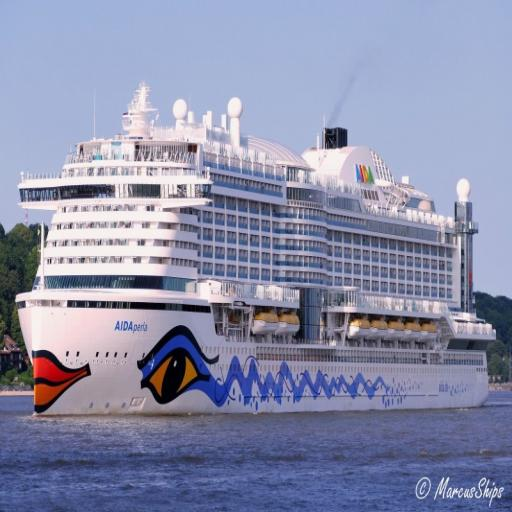cruises: (11, 77, 500, 422)
